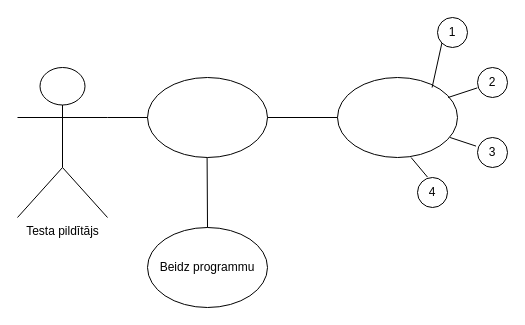
Some shapes in this 525 by 325 pixel diagram are drawn without their labels. Here are the shapes that lost their labels. From the top down, the centre of each, then its label:
the point at 207,117: Startē programmu
the point at 397,117: Ievada atbildi
